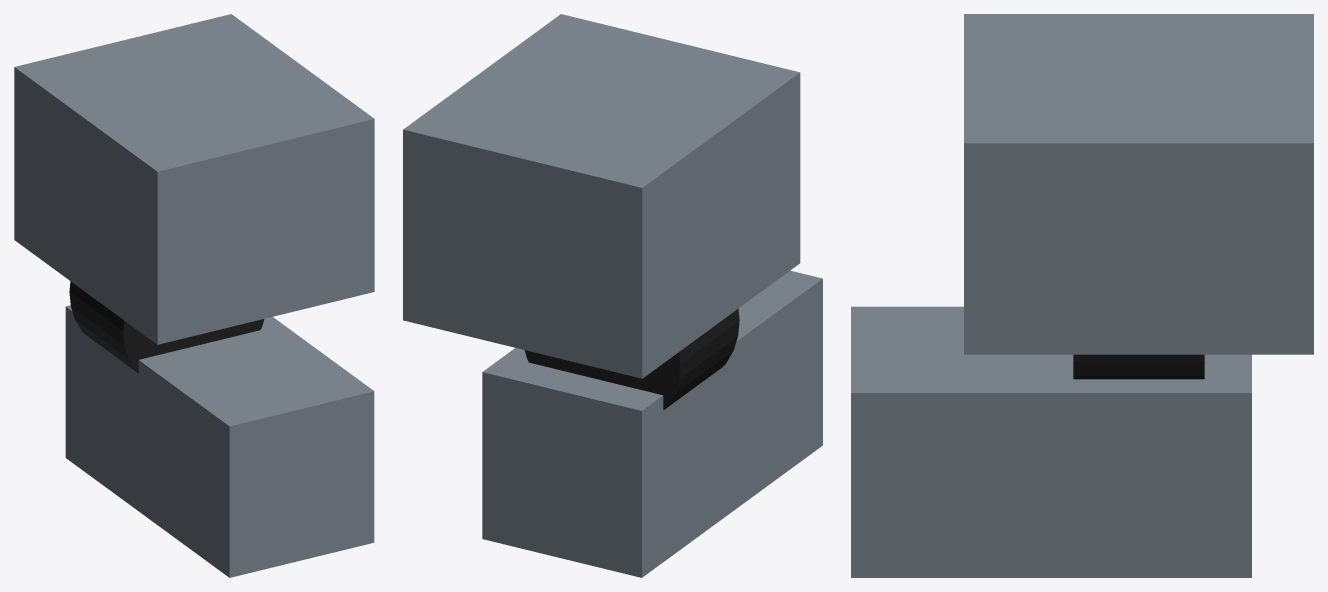
File: arm_left_line.obj
The picture shows the model from 3 angles, left to right: view 1: azimuth 30°, elevation 25°; view 2: azimuth 150°, elevation 25°; view 3: azimuth 270°, elevation 25°; orthographic projection. The views are drawn at different scales.
Bounding box in the file's own units: 0.42 × 0.7 × 0.635.
